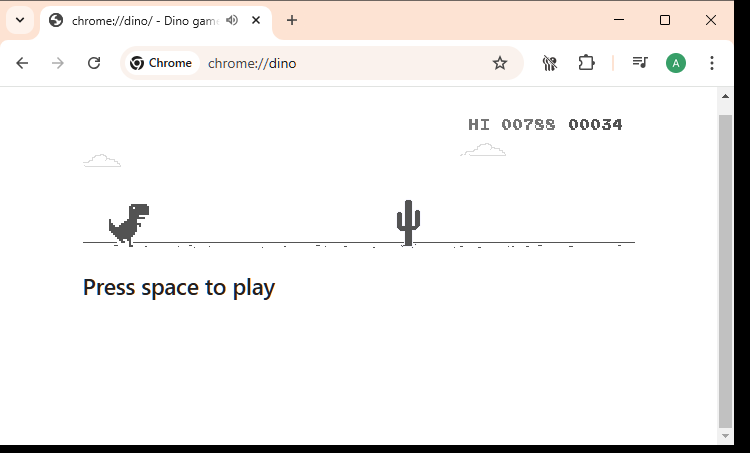cactus: (396, 199, 421, 247)
dino: (105, 201, 151, 249)
